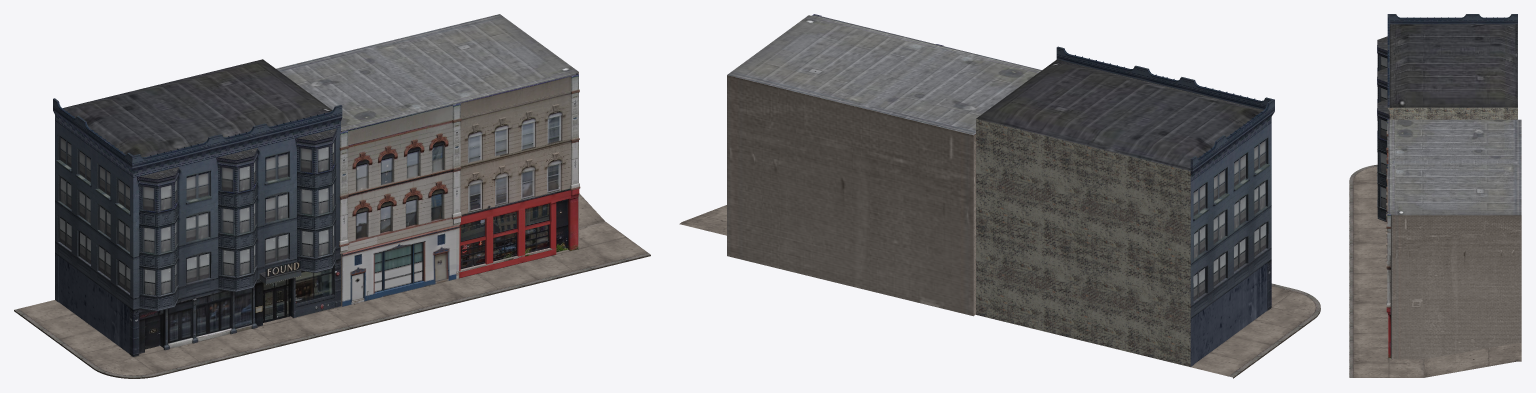
Rendered from building3_single.fbx.
The picture shows the model from 3 angles, left to right: view 1: azimuth 30°, elevation 25°; view 2: azimuth 150°, elevation 25°; view 3: azimuth 270°, elevation 25°; orthographic projection. The views are drawn at different scales.
Visible parts, largest first — view 1: Bricks; view 2: Bricks; view 3: Bricks.
Part boxes in pixels (box(x1,y1,x2,y2)): Bricks: box(14, 14, 650, 378); Bricks: box(679, 14, 1320, 378); Bricks: box(1349, 14, 1521, 377).
Size of the model in its own units: 19789 by 7186 by 6726.
